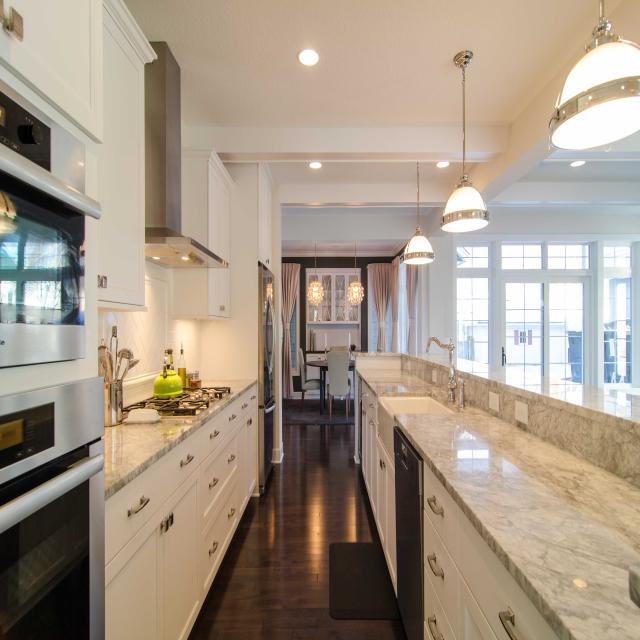Appliance_Dishwasher: (394, 427, 427, 640)
Appliance_Fridge: (258, 262, 276, 496)
Appliance_Oven: (0, 80, 101, 370), (0, 378, 105, 640)
Appliance_Stove: (123, 387, 231, 417)
Cabinet_Inset: (106, 377, 265, 640), (424, 473, 557, 640), (362, 381, 398, 598)
Cabinet_Shaker: (93, 0, 158, 312), (208, 155, 235, 319), (257, 162, 274, 267)
Countertop_Marble: (360, 369, 640, 640), (104, 380, 254, 491), (376, 397, 452, 467), (426, 337, 456, 402)
